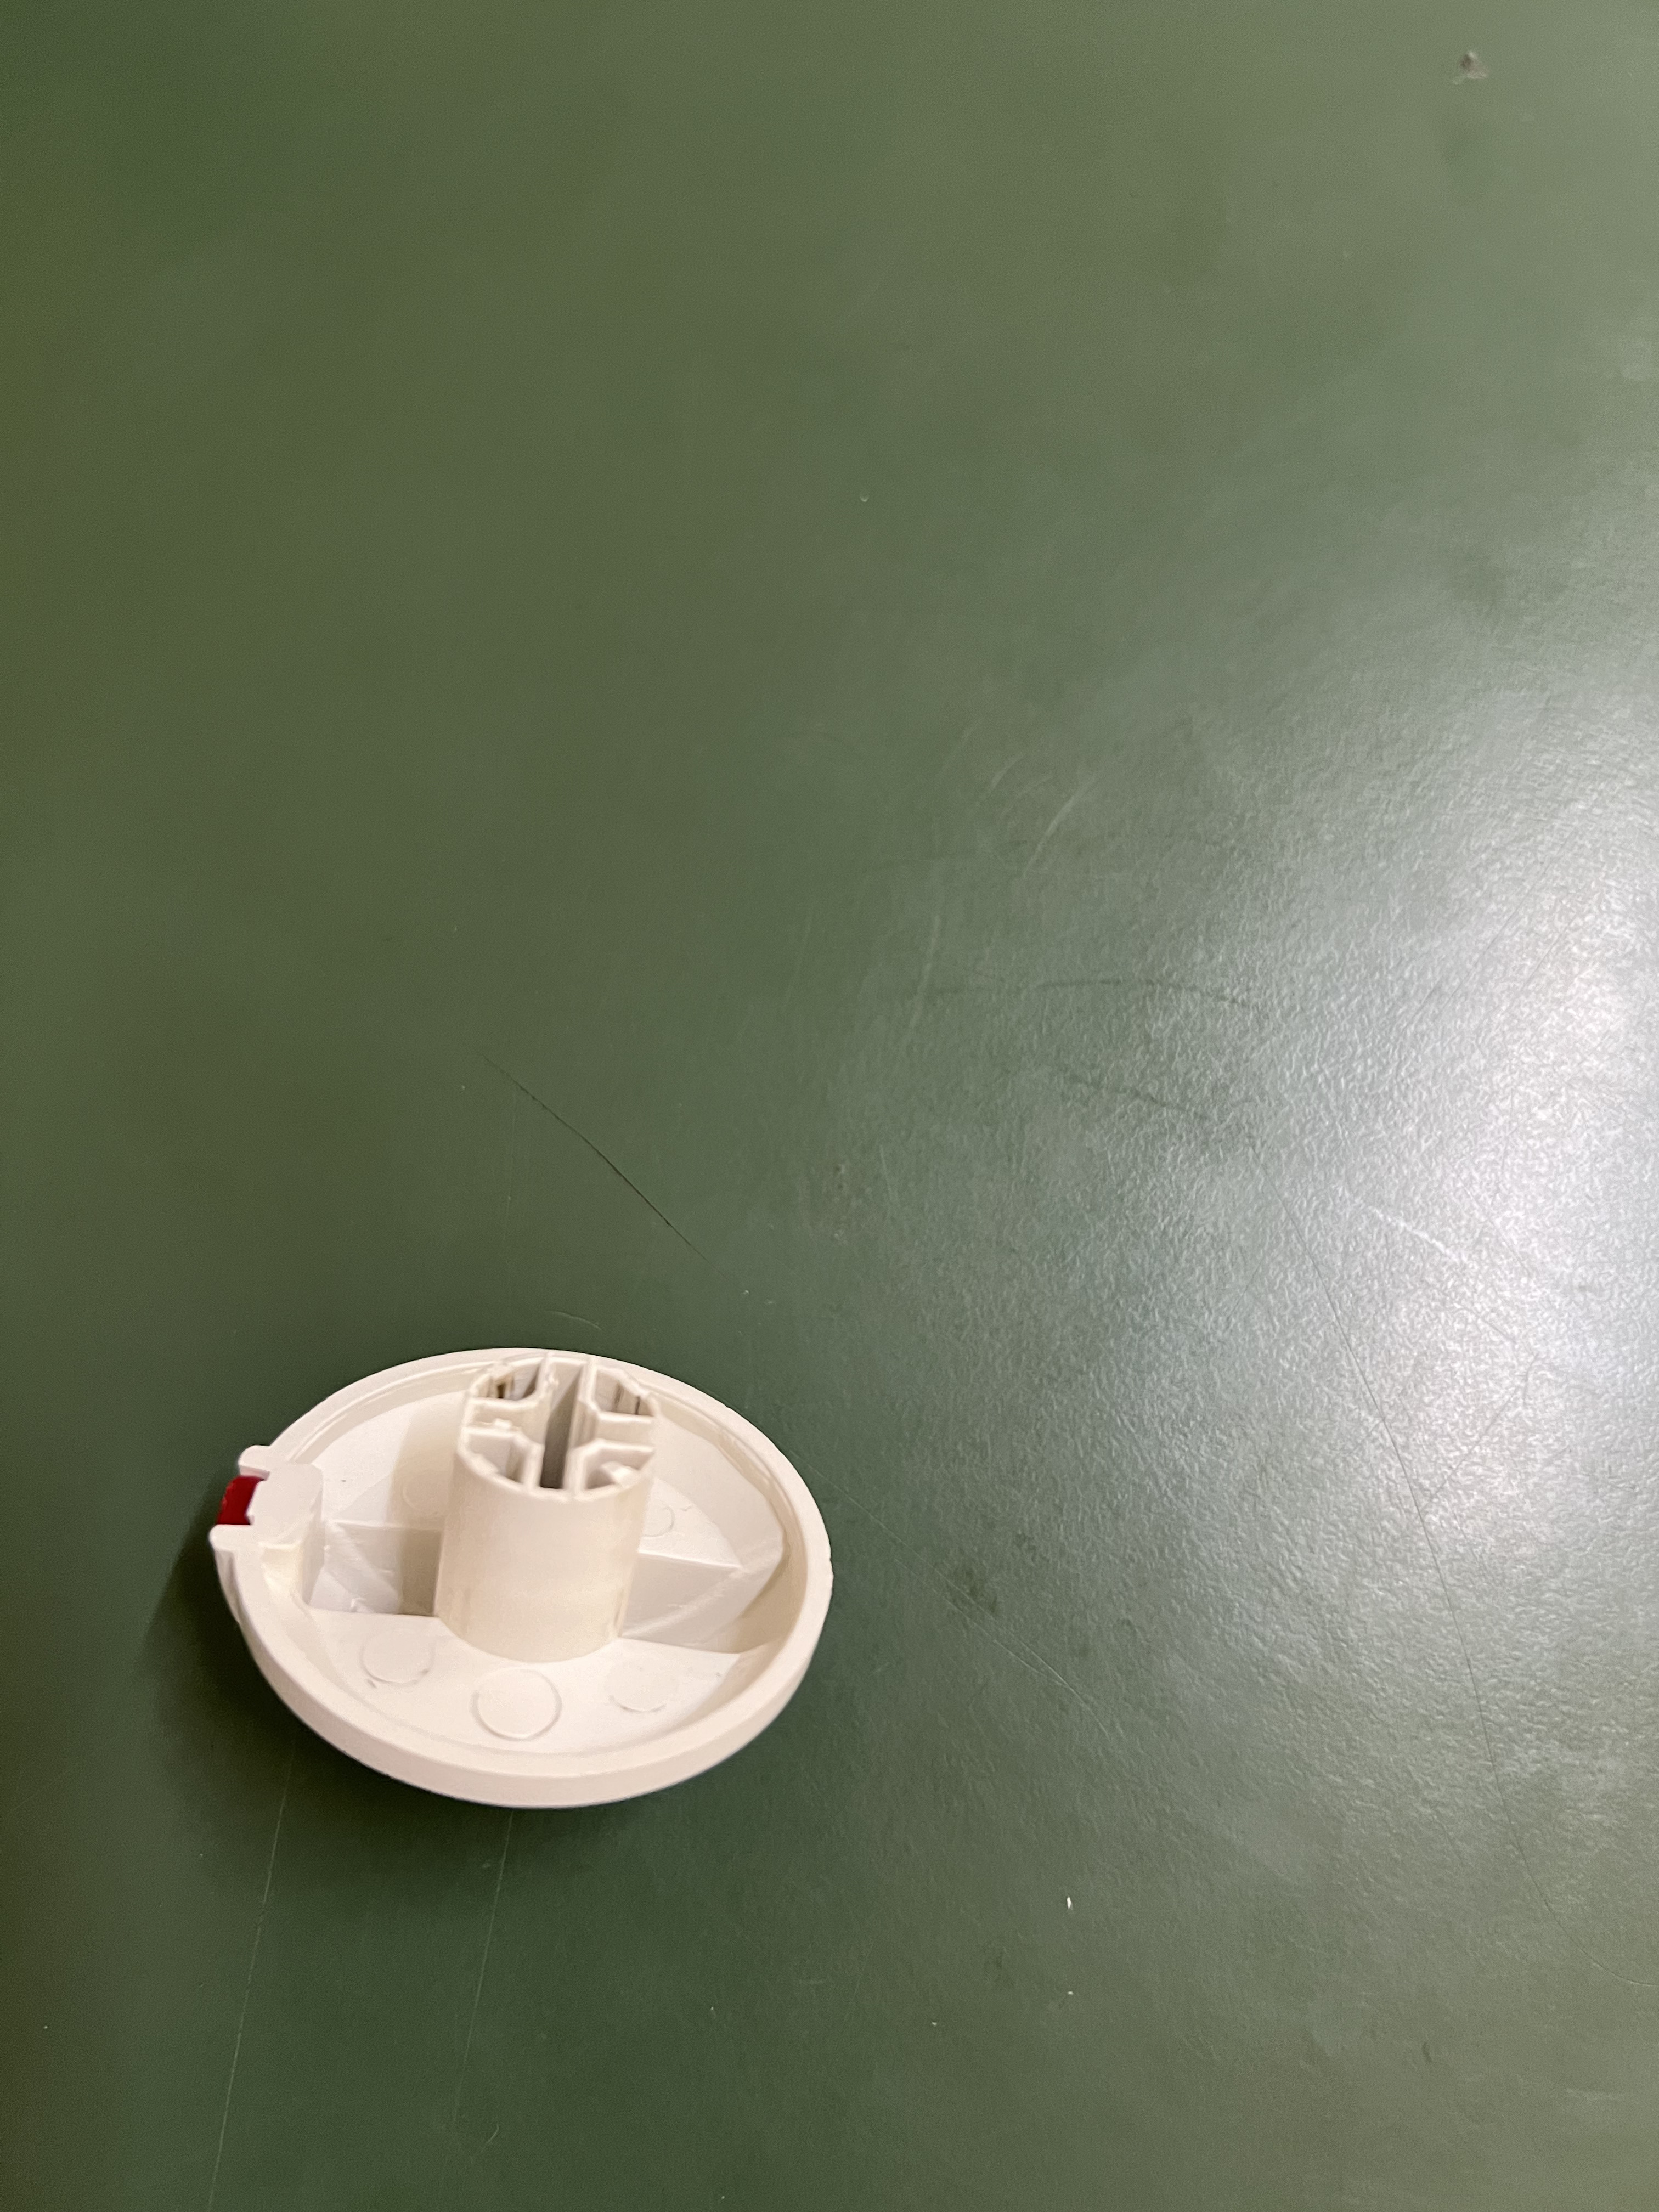regulator: (199, 1352, 845, 1791)
